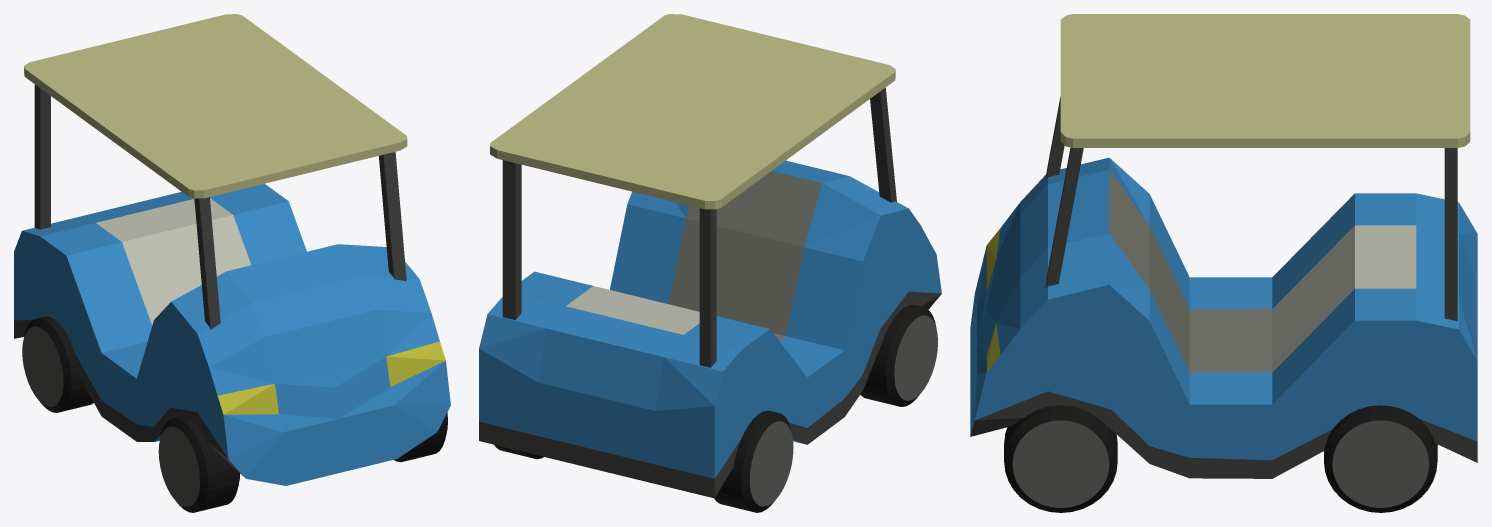
Rendered from Golfcart.obj.
The picture shows the model from 3 angles, left to right: view 1: azimuth 30°, elevation 25°; view 2: azimuth 150°, elevation 25°; view 3: azimuth 270°, elevation 25°; orthographic projection. The views are drawn at different scales.
Parts seen in each view (by area): view 1: Cube; view 2: Cube; view 3: Cube.
Part boxes in pixels (<box>): Cube: <box>14,14,450,512</box>; Cube: <box>479,14,941,512</box>; Cube: <box>970,14,1477,512</box>.
Size of the model in its own units: 2.55 by 3.09 by 3.86.
1 material, 1 textured.
